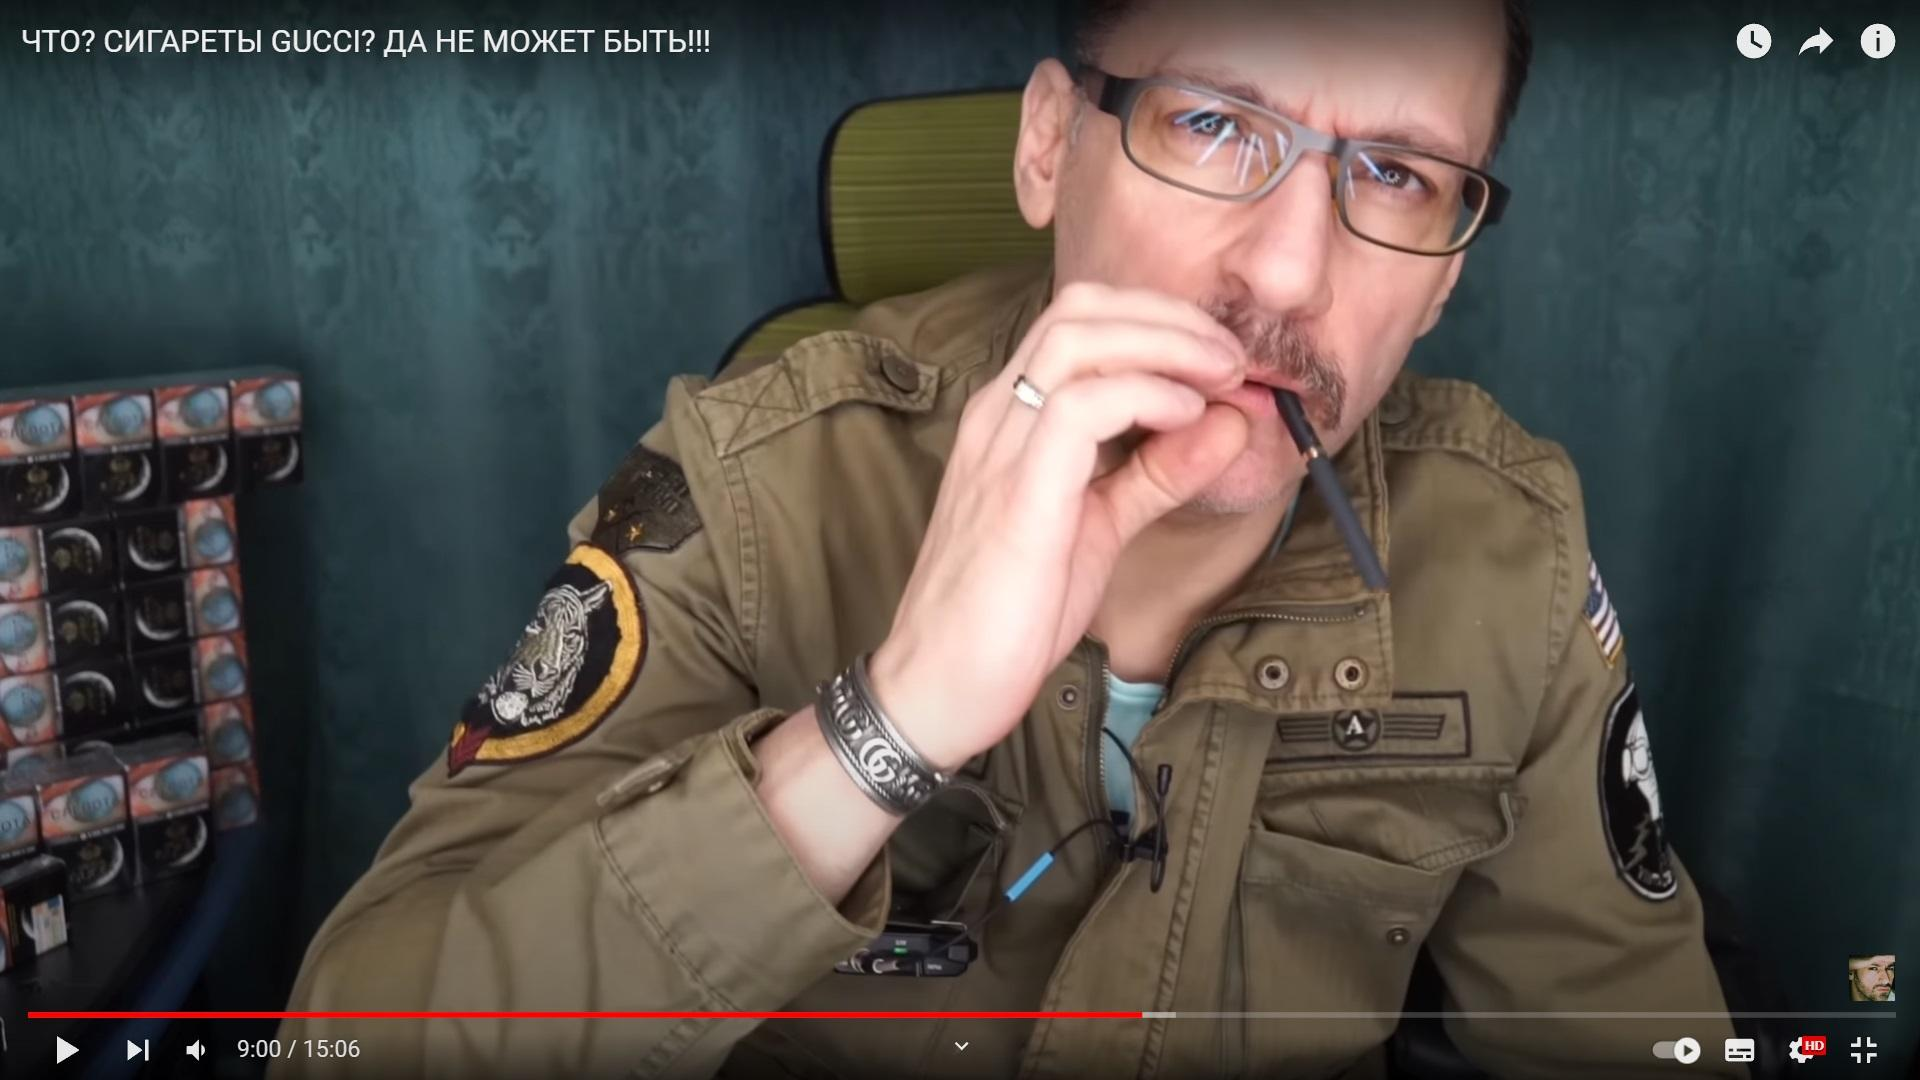cigarette: (1271, 385, 1389, 592)
